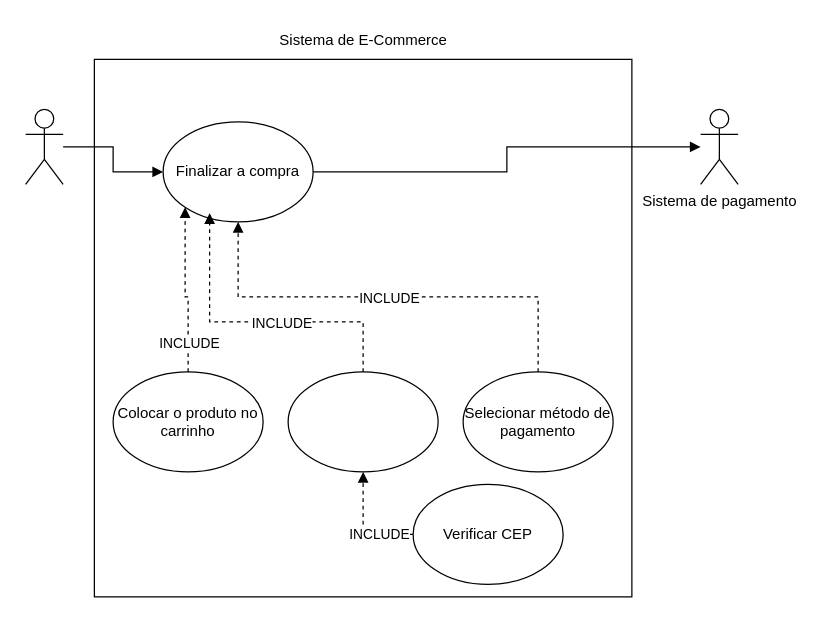
The diagram is 818 pixels wide and 619 high, and some of its shapes have lost their labels. The centre of each missing label's shape, as x and y in pixels:
Calcular o frete: the point at 362,421
Cliente: the point at 43,146
